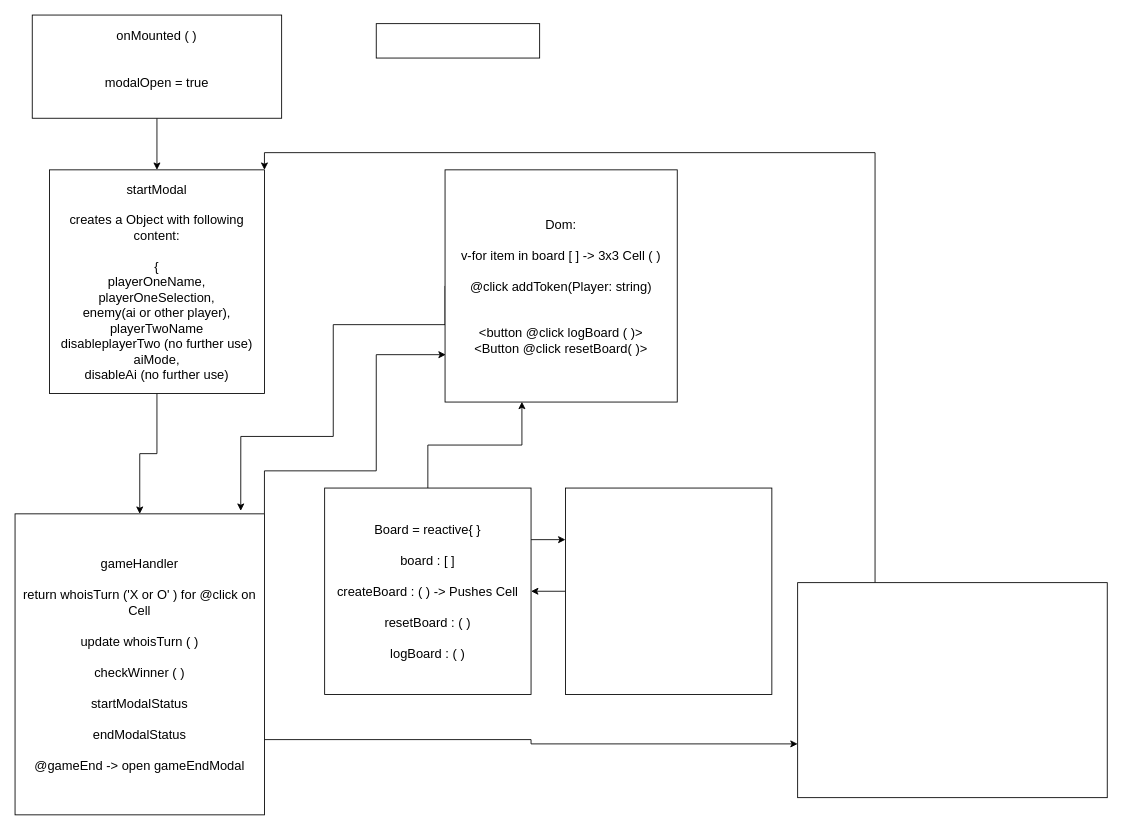
The diagram is 1122 pixels wide and 830 high, and some of its shapes have lost their labels. Here are the shapes that lost their labels. From the top down, the box of each, then its label:
(375, 23, 540, 58): Tic Tac Toe Structure
(565, 487, 772, 694): Cell addToken(Player:string) getValue()
(797, 582, 1107, 798): gameEndModal show whoisWinner restart Game ( ) -> open startModal again
